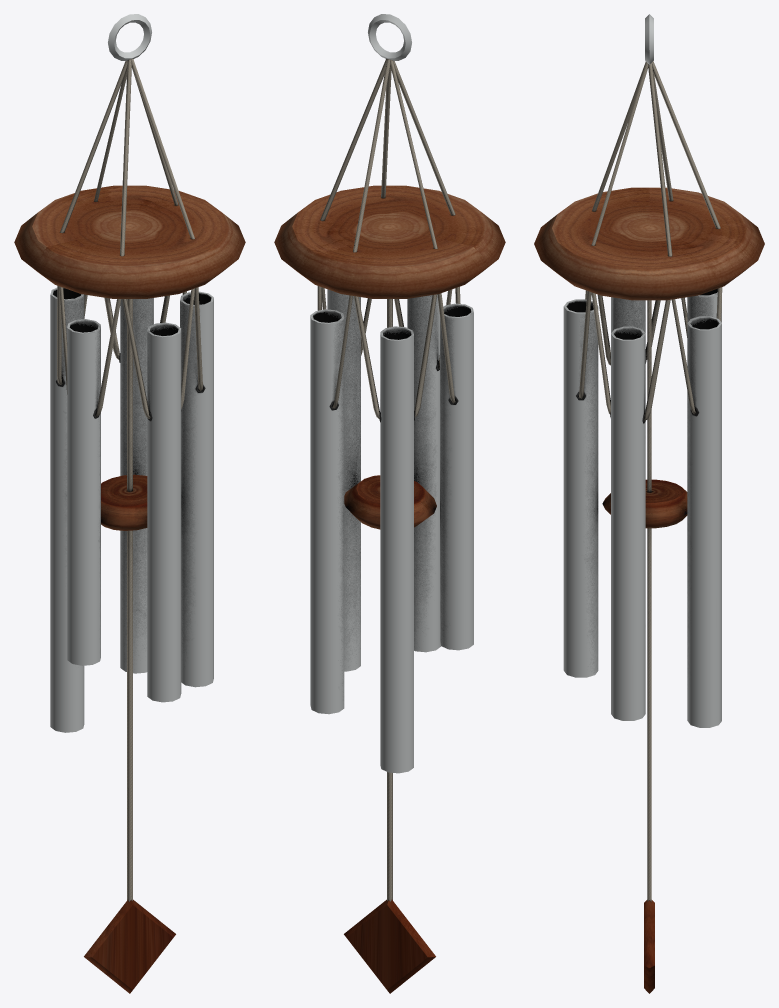
Rendered from chime.glb.
3 renders of one model, left to right at view 1: azimuth 30°, elevation 25°; view 2: azimuth 150°, elevation 25°; view 3: azimuth 270°, elevation 25°, orthographic.
Parts seen in each view (by area): view 1: Carillon; view 2: Carillon; view 3: Carillon.
Part boxes in pixels (bbox=[...]): Carillon: bbox=[14, 14, 245, 993]; Carillon: bbox=[274, 14, 505, 993]; Carillon: bbox=[534, 14, 764, 993].
Size of the model in its own units: 0.1628 by 0.772 by 0.1653.
1 material, 1 textured.
